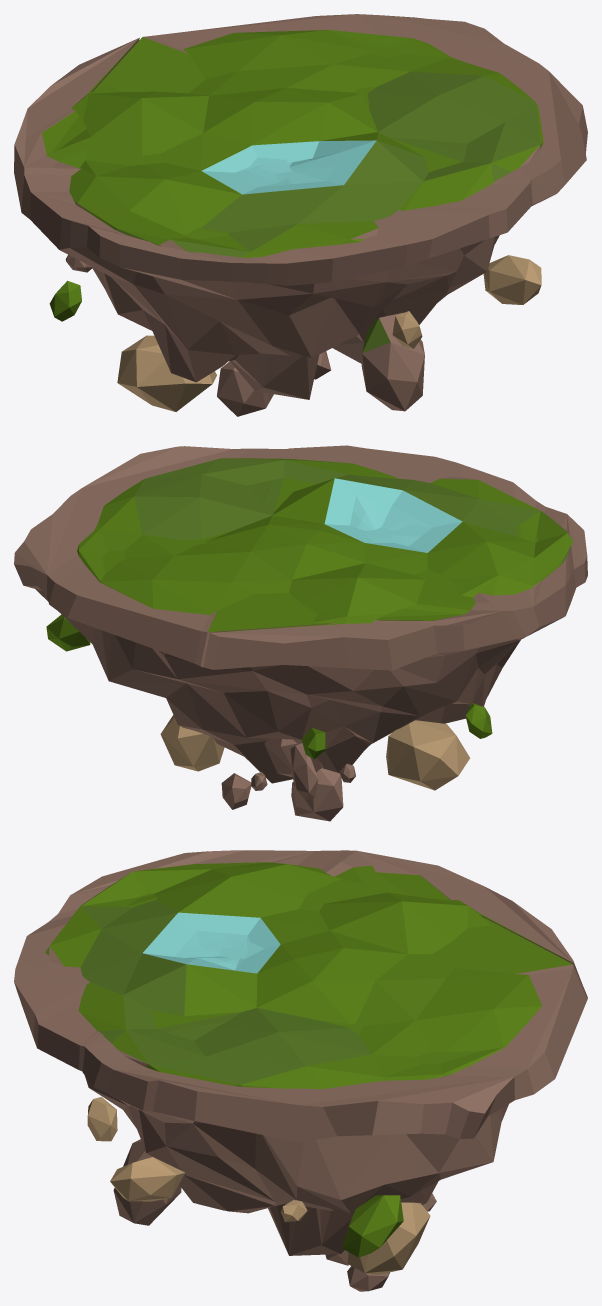
The model's file is island-test-final.gltf.
The picture shows the model from 3 angles, top to bottom: view 1: azimuth 30°, elevation 25°; view 2: azimuth 150°, elevation 25°; view 3: azimuth 270°, elevation 25°; orthographic projection. The views are drawn at different scales.
Visible parts, largest first — view 1: clloud; view 2: clloud; view 3: clloud.
Part boxes in pixels (x1,y1,x2,y2): clloud: (14,14,587,416); clloud: (14,445,587,821); clloud: (14,850,587,1291).
Bounding box in the file's own units: 14.26 × 8.15 × 13.15.
